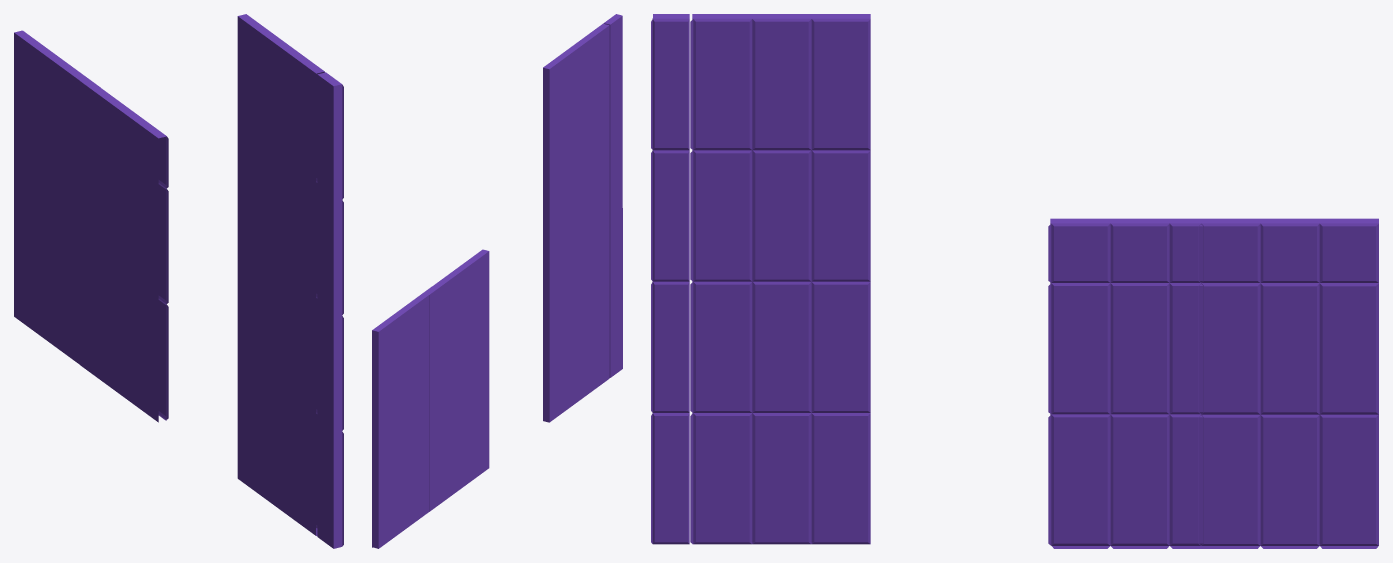
File: Azulejos.fbx
3 views of the same model, side by side, from view 1: azimuth 30°, elevation 25°; view 2: azimuth 150°, elevation 25°; view 3: azimuth 270°, elevation 25° (orthographic). The views are drawn at different scales.
Parts seen in each view (by area): view 1: Side 1.002; view 2: Side 1.002; view 3: Side 1.002.
Boxes of the visible parts, left/top/right/bottom form: Side 1.002: left=14, top=14, right=343, bottom=548; Side 1.002: left=372, top=14, right=622, bottom=548; Side 1.002: left=651, top=14, right=1378, bottom=548.
Bounding box in the file's own units: 2.42 × 111 × 139.
